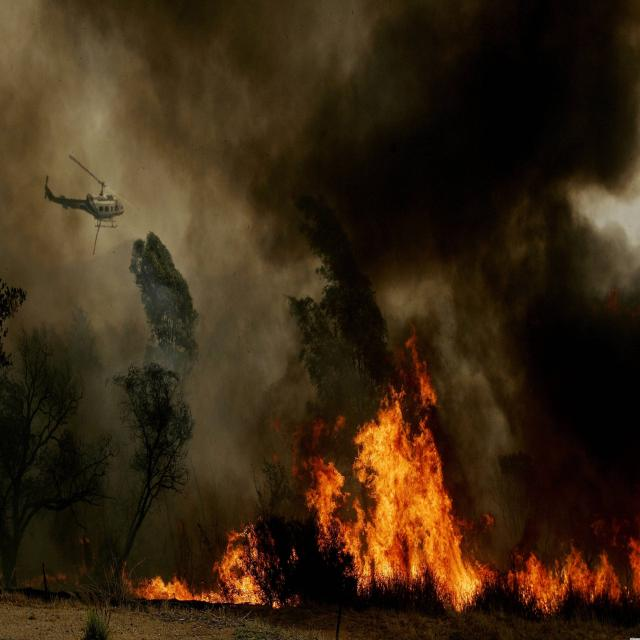Fire: (5, 0, 640, 551), (148, 403, 640, 616)
